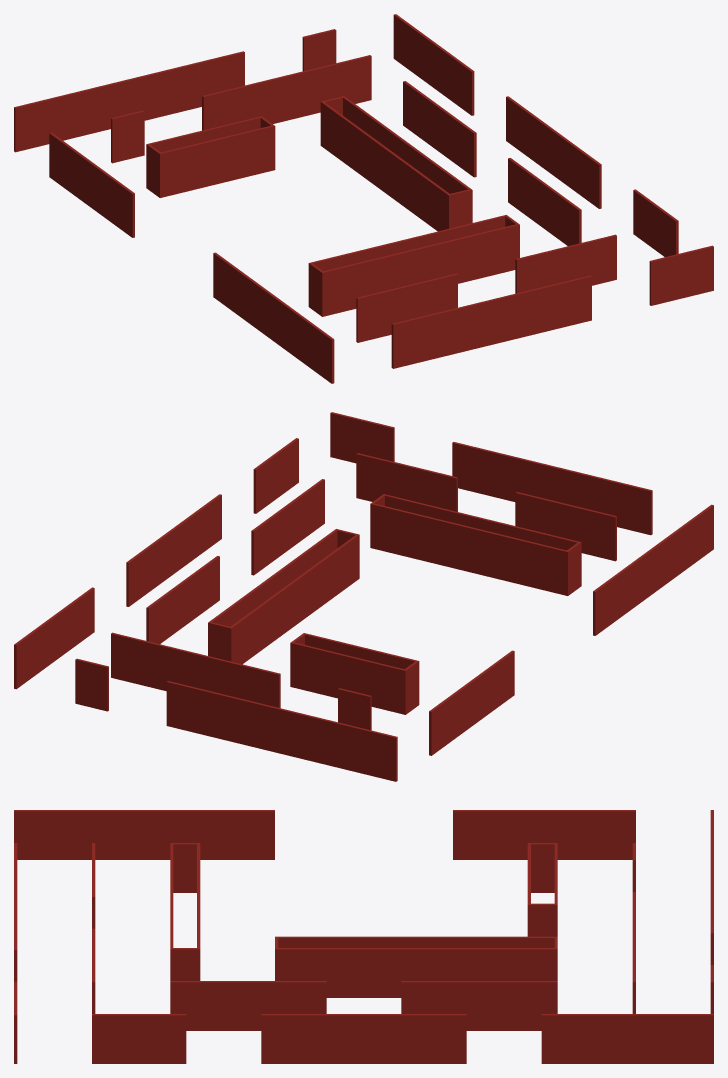
The model's file is Maze.dae.
The picture shows the model from 3 angles, top to bottom: view 1: azimuth 30°, elevation 25°; view 2: azimuth 150°, elevation 25°; view 3: azimuth 270°, elevation 25°; orthographic projection. The views are drawn at different scales.
Parts seen in each view (by area): view 1: Maze; view 2: Maze; view 3: Maze.
Part boxes in pixels (left/top/right/bottom): Maze: left=14, top=14, right=713, bottom=383; Maze: left=14, top=412, right=713, bottom=781; Maze: left=14, top=810, right=713, bottom=1063.
Bounding box in the file's own units: 0.908 × 1.31 × 0.1.
